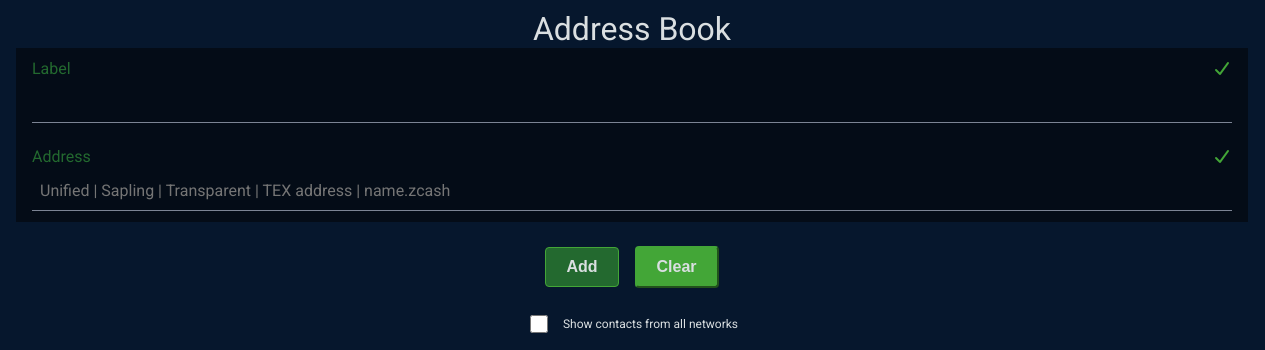
Scenario: AddressBook › clears the form when Clear is clicked
The image size is (1265, 350).
Type "X" into the field named "label" at (632, 102), box left=32, top=82, right=1232, bottom=123
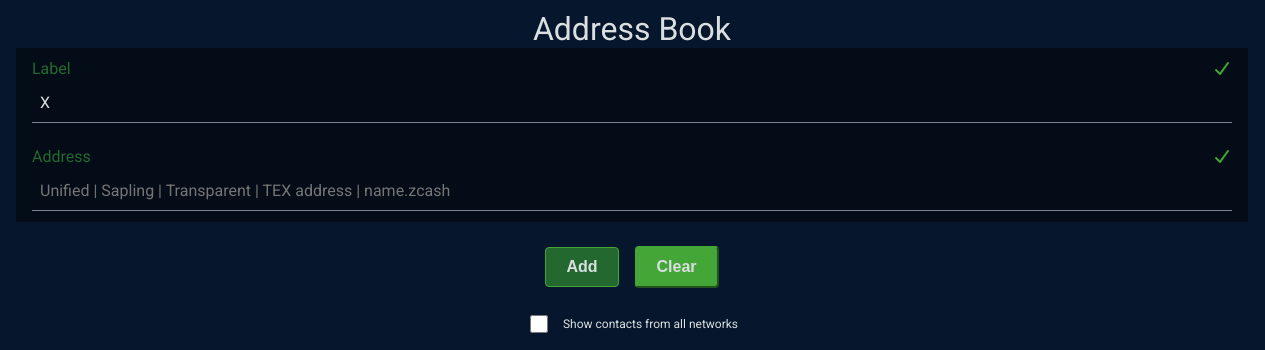
Click the button "Clear" at (676, 267), box left=634, top=246, right=718, bottom=288
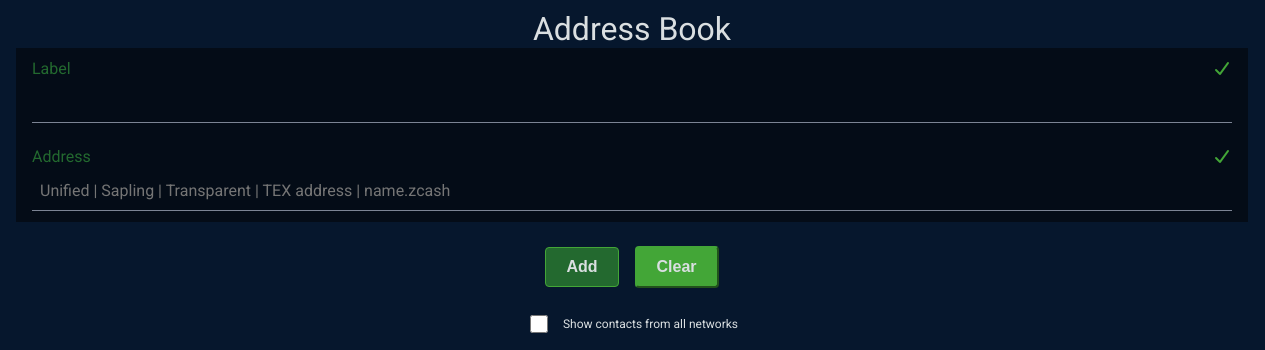
Now the field named "label" is empty, box left=32, top=82, right=1232, bottom=123
